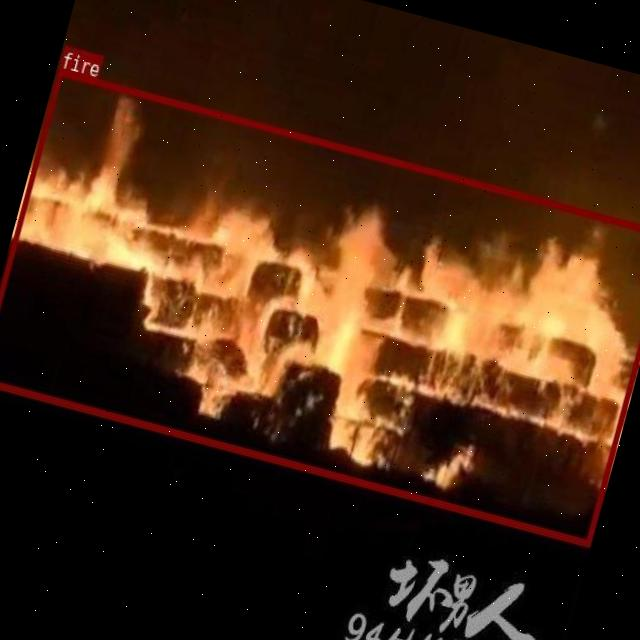fire: (0, 66, 640, 545)
